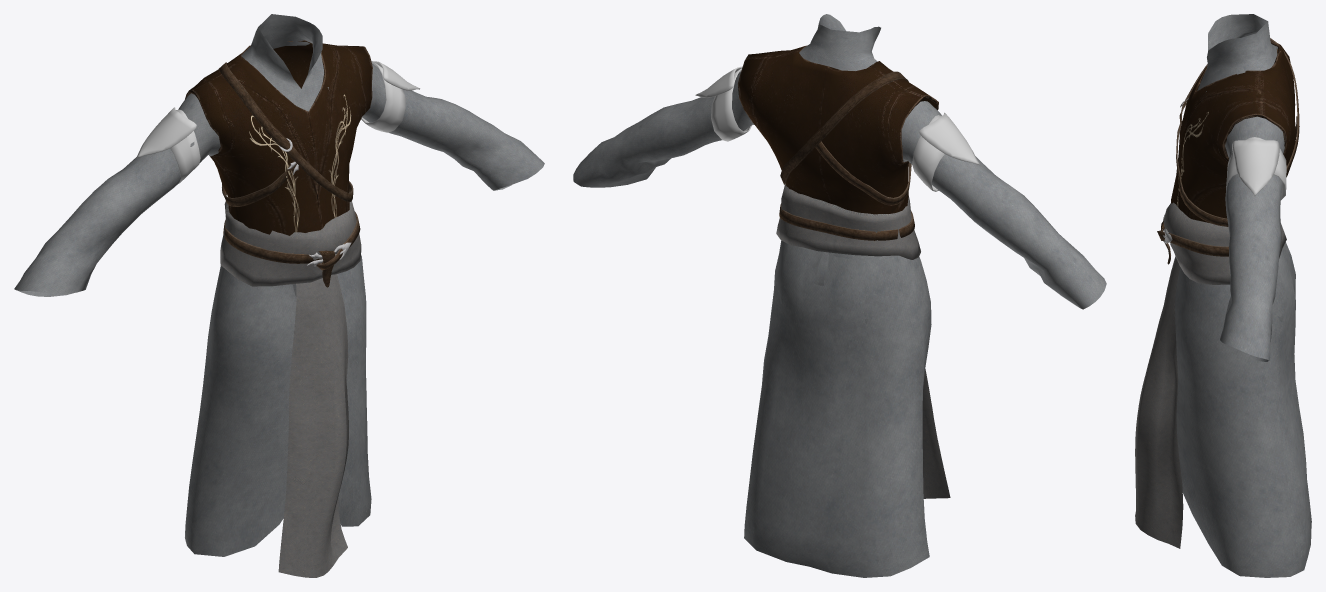
The model's file is rivendell_torso_light_light_tier3.fbx.
The picture shows the model from 3 angles, left to right: view 1: azimuth 30°, elevation 25°; view 2: azimuth 150°, elevation 25°; view 3: azimuth 270°, elevation 25°; orthographic projection.
Parts seen in each view (by area): view 1: rivendell_torso_light_light_tier3.0, rivendell_torso_light_light_tier3.1, rivendell_torso_light_light_tier3.2, rivendell_torso_light_light_tier3.3; view 2: rivendell_torso_light_light_tier3.0, rivendell_torso_light_light_tier3.2, rivendell_torso_light_light_tier3.1, rivendell_torso_light_light_tier3.3; view 3: rivendell_torso_light_light_tier3.0, rivendell_torso_light_light_tier3.1, rivendell_torso_light_light_tier3.2, rivendell_torso_light_light_tier3.3.
Part boxes in pixels (<box>): rivendell_torso_light_light_tier3.0: <box>14,14,544,556</box>; rivendell_torso_light_light_tier3.1: <box>219,62,361,577</box>; rivendell_torso_light_light_tier3.2: <box>185,40,372,235</box>; rivendell_torso_light_light_tier3.3: <box>136,61,419,183</box>; rivendell_torso_light_light_tier3.0: <box>573,14,1106,577</box>; rivendell_torso_light_light_tier3.2: <box>738,45,938,240</box>; rivendell_torso_light_light_tier3.1: <box>776,71,950,498</box>; rivendell_torso_light_light_tier3.3: <box>695,66,979,191</box>; rivendell_torso_light_light_tier3.0: <box>1175,14,1311,577</box>; rivendell_torso_light_light_tier3.1: <box>1135,38,1299,548</box>; rivendell_torso_light_light_tier3.2: <box>1171,40,1295,222</box>; rivendell_torso_light_light_tier3.3: <box>1226,137,1286,199</box>.
Size of the model in its own units: 1.52 by 0.4435 by 1.45.
